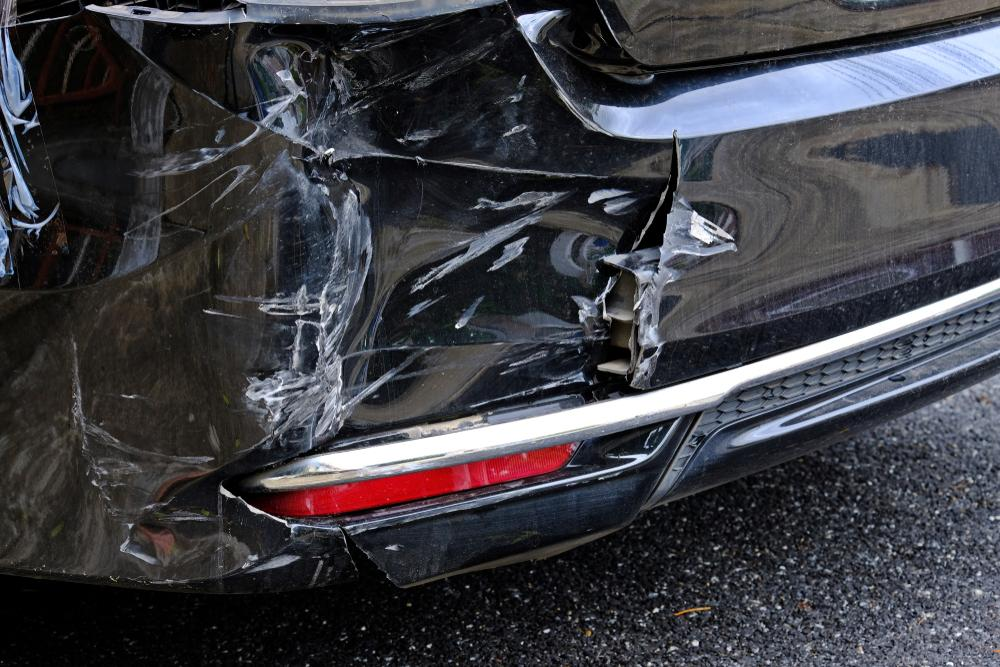crack: (581, 130, 680, 386), (338, 524, 401, 588)
dent: (307, 0, 663, 435), (113, 462, 291, 581)
scratch: (66, 72, 371, 513)
